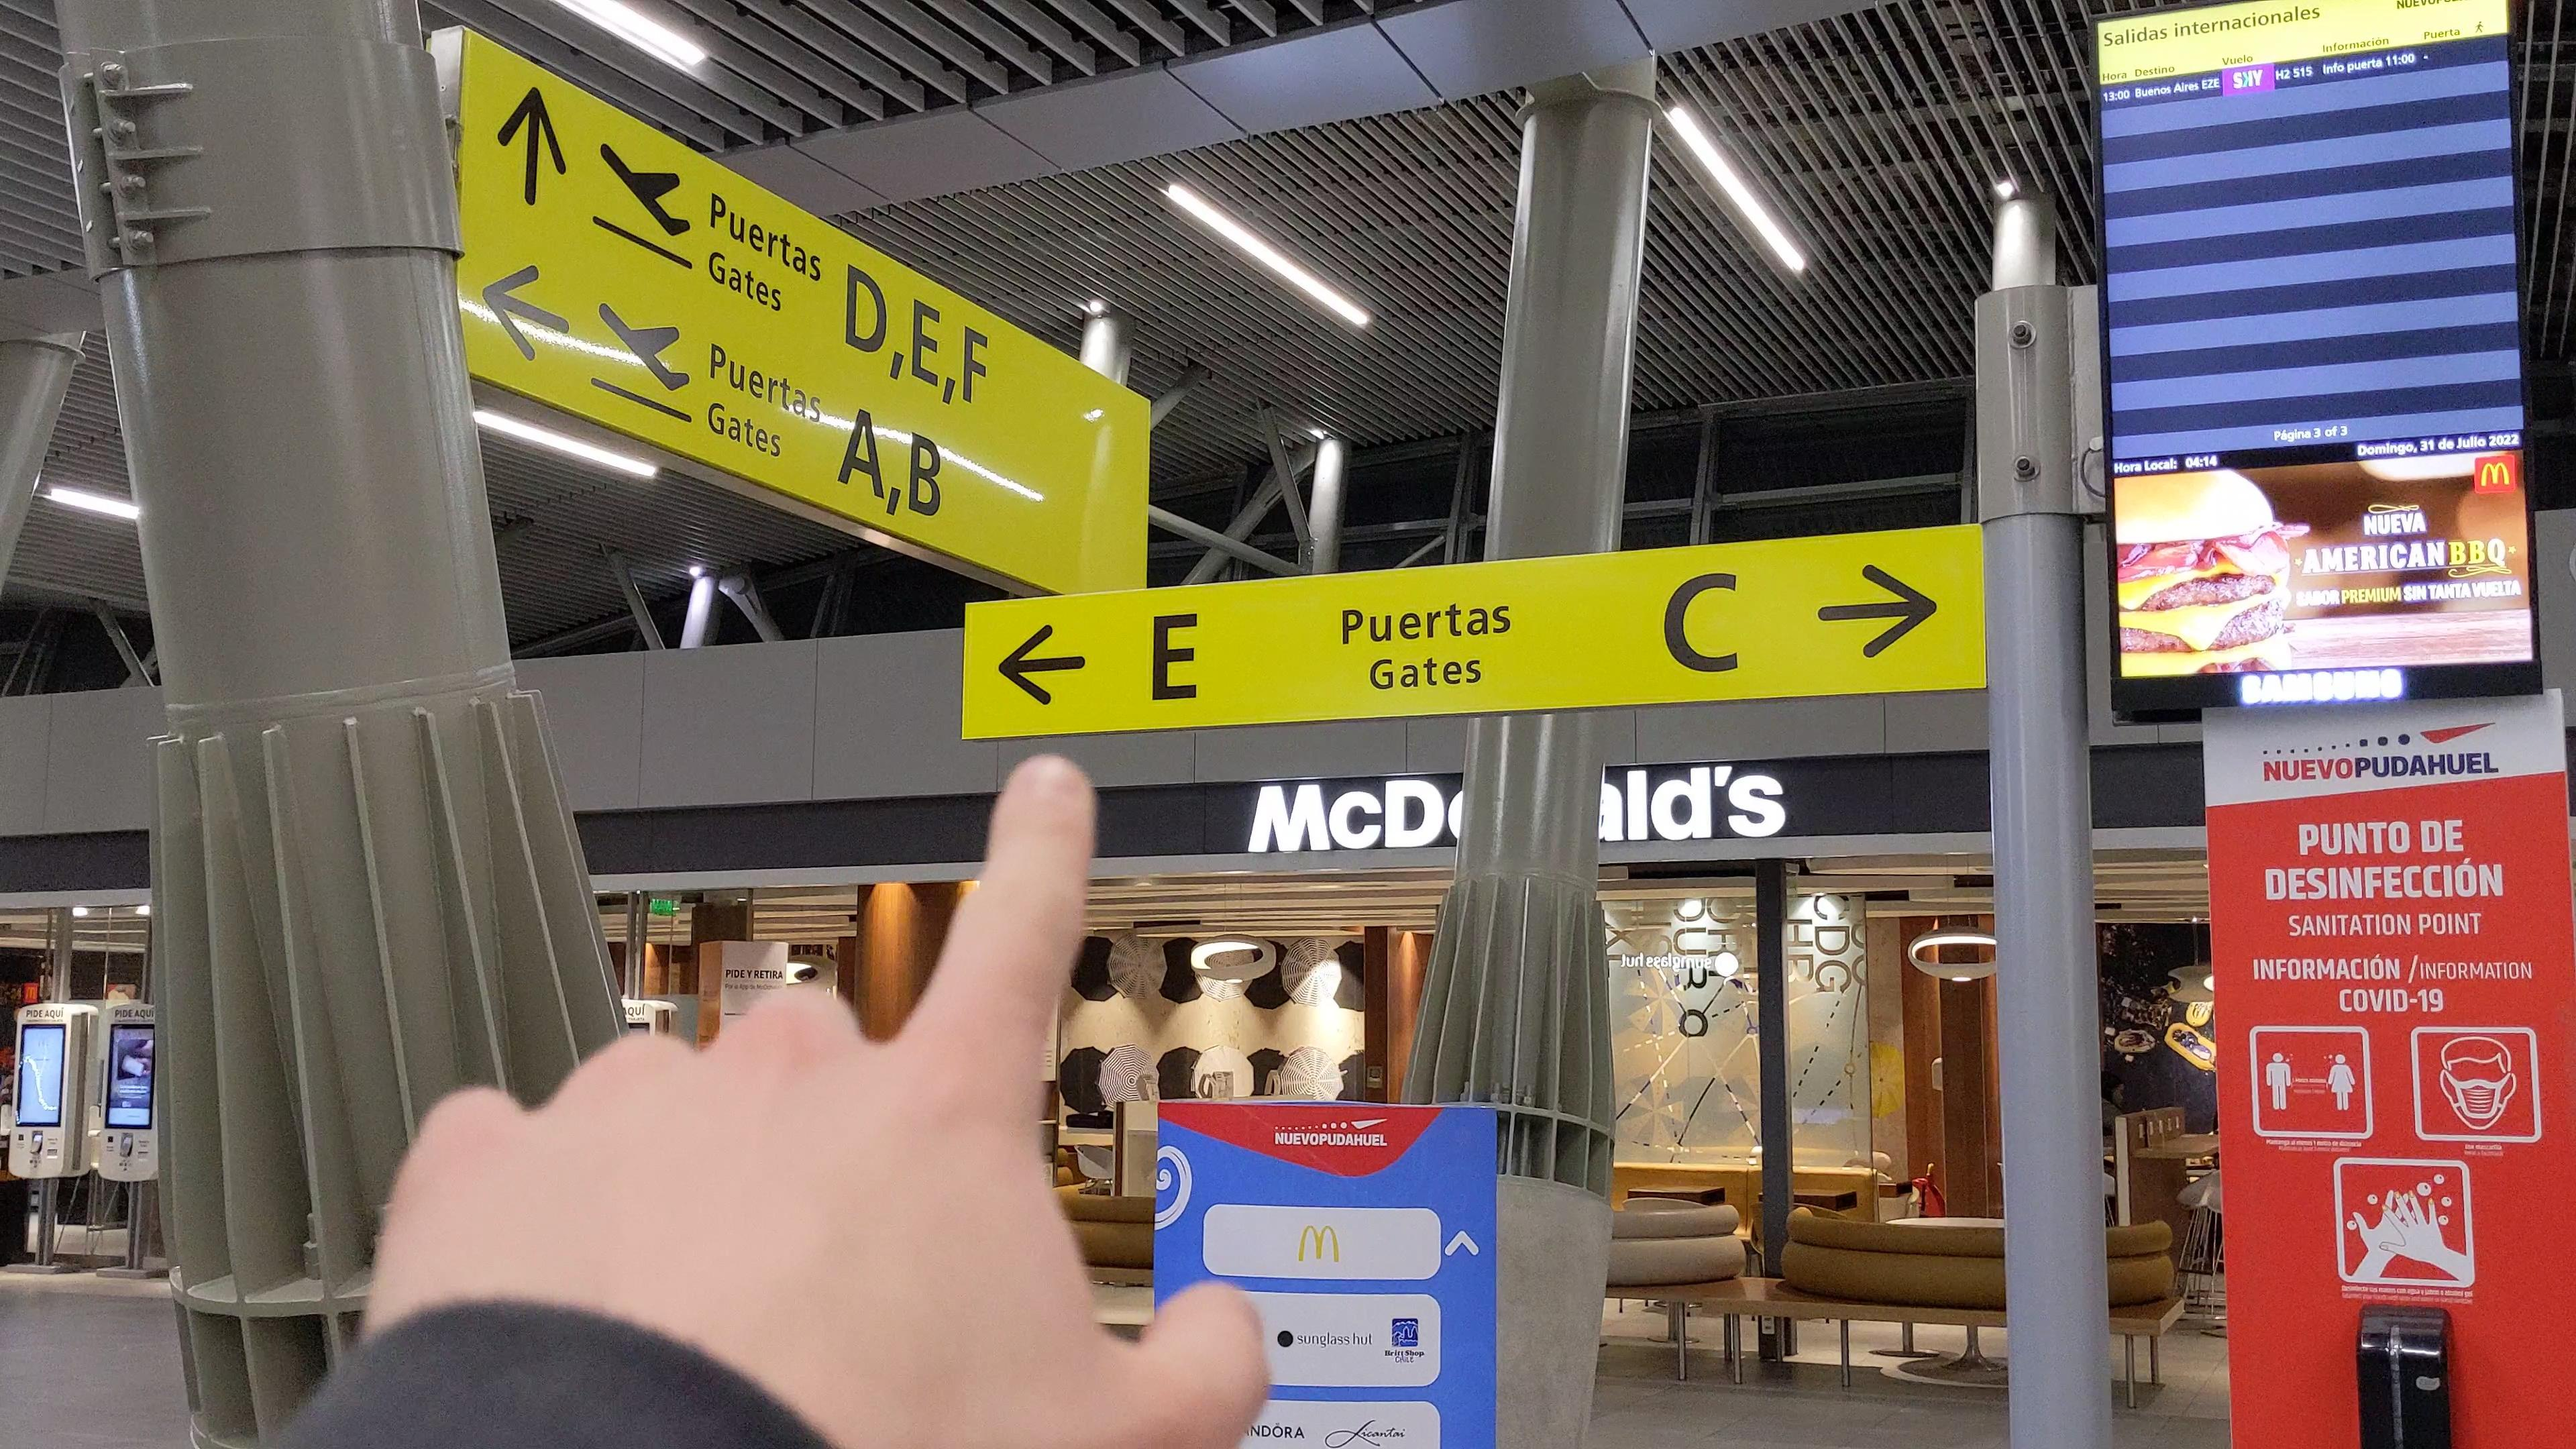airplane symbol: (589, 136, 695, 242)
thin left arrow: (474, 258, 577, 364), (996, 621, 1095, 709)
thin right arrow: (1812, 559, 1943, 667)
thin up arrow: (495, 83, 570, 216)
